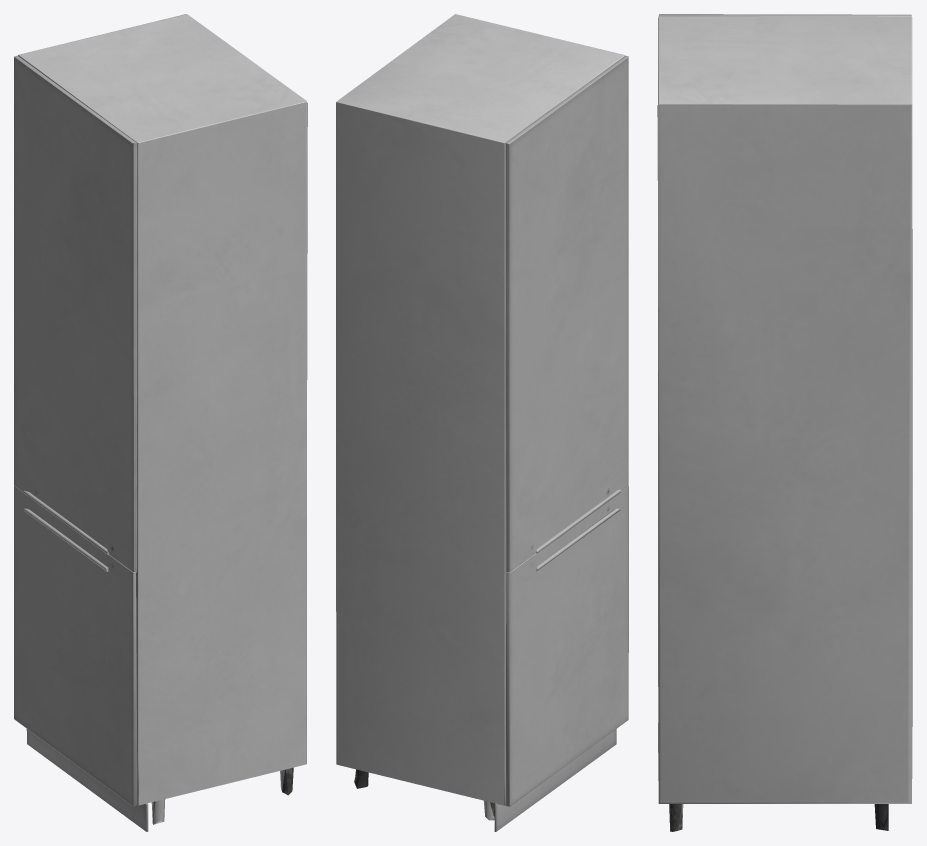
The model's file is SM_Kitchen01.fbx.
3 views of the same model, side by side, from view 1: azimuth 30°, elevation 25°; view 2: azimuth 150°, elevation 25°; view 3: azimuth 270°, elevation 25° (orthographic). The views are drawn at different scales.
Visible parts, largest first — view 1: SM_Kitchen01_LOD0; view 2: SM_Kitchen01_LOD0; view 3: SM_Kitchen01_LOD0.
Part boxes in pixels (x1,y1,x2,y2): SM_Kitchen01_LOD0: (14, 14, 307, 831); SM_Kitchen01_LOD0: (336, 14, 628, 831); SM_Kitchen01_LOD0: (657, 14, 912, 831).
Bounding box in the file's own units: 60.86 × 69.48 × 221.
